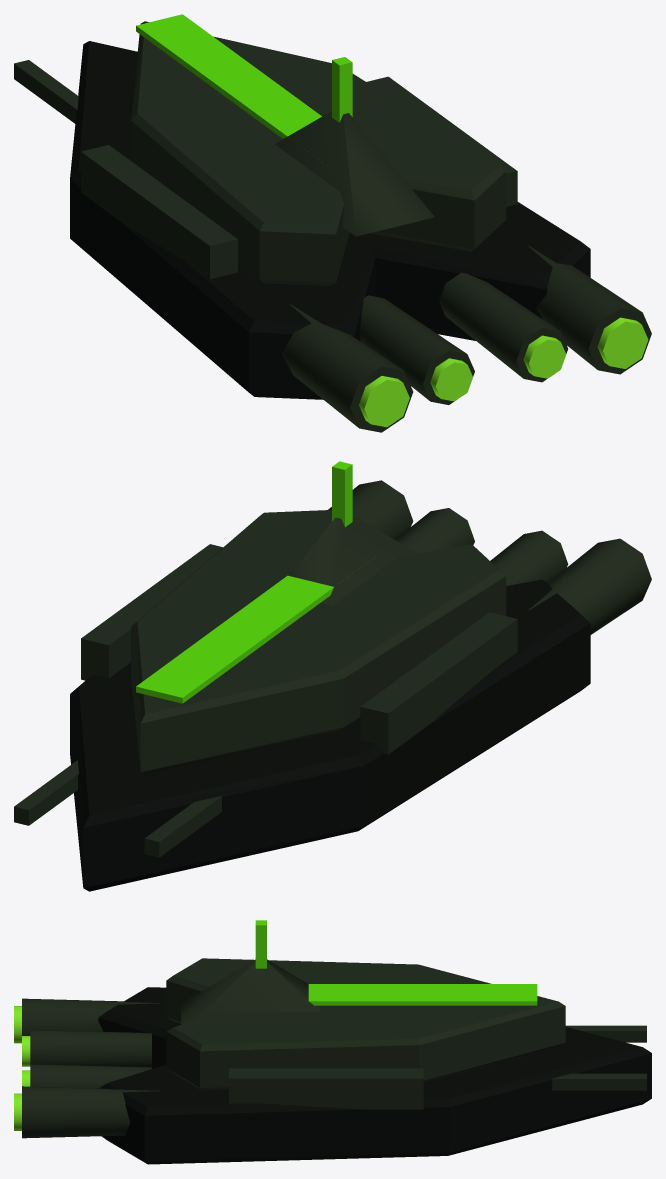
The model's file is Frigate.obj.
3 renders of one model, top to bottom at view 1: azimuth 30°, elevation 25°; view 2: azimuth 150°, elevation 25°; view 3: azimuth 270°, elevation 25°, orthographic. The views are drawn at different scales.
Visible parts, largest first — view 1: frigate_spine, frigate_hull, frigate_engine_o_nacelle, frigate_battery, frigate_engine_i_nacelle, frigate_bridge, frigate_dorsal, frigate_engine_o_bell, frigate_engine_i_bell, frigate_lance, frigate_sensor; view 2: frigate_hull, frigate_spine, frigate_battery, frigate_engine_o_nacelle, frigate_dorsal, frigate_bridge, frigate_engine_i_nacelle, frigate_lance, frigate_sensor; view 3: frigate_hull, frigate_spine, frigate_engine_o_nacelle, frigate_battery, frigate_engine_i_nacelle, frigate_dorsal, frigate_bridge, frigate_lance, frigate_engine_o_bell, frigate_sensor, frigate_engine_i_bell.
Boxes of the visible parts, <box> form: frigate_spine: <box>131,21,506,285</box>; frigate_hull: <box>70,41,590,399</box>; frigate_engine_o_nacelle: <box>282,246,651,432</box>; frigate_battery: <box>81,76,517,279</box>; frigate_engine_i_nacelle: <box>360,272,568,404</box>; frigate_bridge: <box>275,111,434,236</box>; frigate_dorsal: <box>136,14,321,138</box>; frigate_engine_o_bell: <box>359,317,648,427</box>; frigate_engine_i_bell: <box>430,335,566,401</box>; frigate_lance: <box>14,60,78,123</box>; frigate_sensor: <box>332,57,352,122</box>; frigate_hull: <box>70,579,590,891</box>; frigate_spine: <box>131,510,506,774</box>; frigate_battery: <box>81,544,517,754</box>; frigate_engine_o_nacelle: <box>328,480,651,634</box>; frigate_dorsal: <box>136,575,333,703</box>; frigate_bridge: <box>288,516,418,605</box>; frigate_engine_i_nacelle: <box>395,508,568,585</box>; frigate_lance: <box>14,760,222,857</box>; frigate_sensor: <box>332,461,352,527</box>; frigate_hull: <box>98,987,651,1164</box>; frigate_spine: <box>166,958,565,1090</box>; frigate_engine_o_nacelle: <box>22,998,159,1138</box>; frigate_battery: <box>229,1068,423,1109</box>; frigate_engine_i_nacelle: <box>30,1030,151,1088</box>; frigate_dorsal: <box>308,984,537,1005</box>; frigate_bridge: <box>181,959,319,1024</box>; frigate_lance: <box>551,1025,646,1090</box>; frigate_engine_o_bell: <box>14,1006,21,1130</box>; frigate_sensor: <box>255,920,266,968</box>; frigate_engine_i_bell: <box>22,1036,30,1086</box>.
Size of the model in its own units: 20.81 by 14.02 by 44.63.
